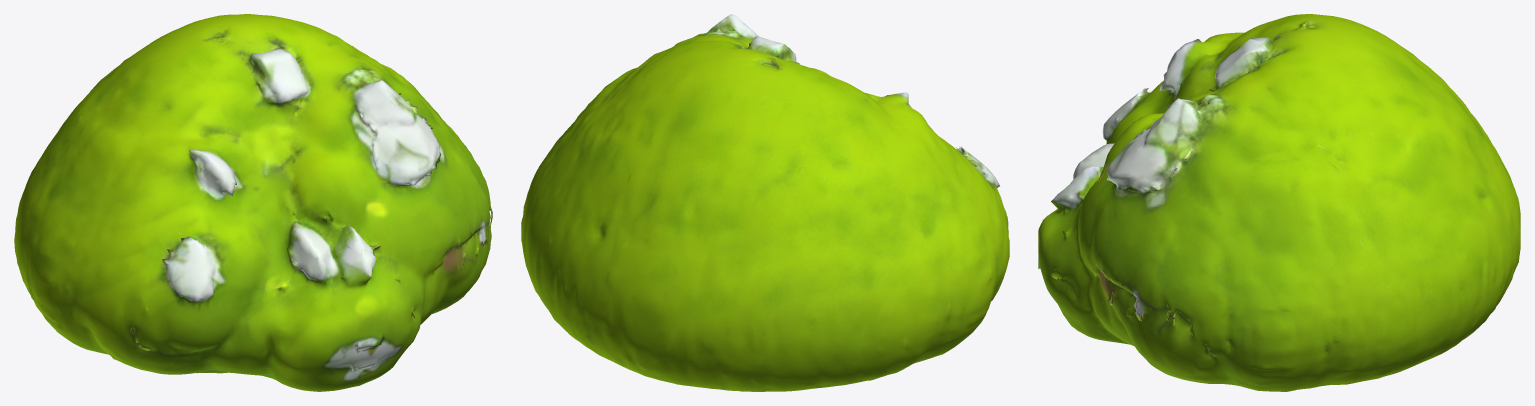
Rendered from boulder.glb.
3 renders of one model, left to right at view 1: azimuth 30°, elevation 25°; view 2: azimuth 150°, elevation 25°; view 3: azimuth 270°, elevation 25°, orthographic. The views are drawn at different scales.
Parts seen in each view (by area): view 1: model; view 2: model; view 3: model.
Part boxes in pixels (x1,y1,x2,y2): model: [14, 14, 492, 391]; model: [521, 14, 1009, 391]; model: [1038, 14, 1520, 391].
Size of the model in its own units: 1.9 by 1.19 by 1.79.
1 material, 1 textured.
